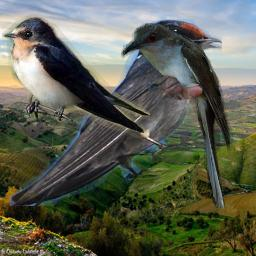Cuckoo: (121, 23, 234, 208)
Swallow: (9, 19, 222, 206), (2, 14, 150, 138)
